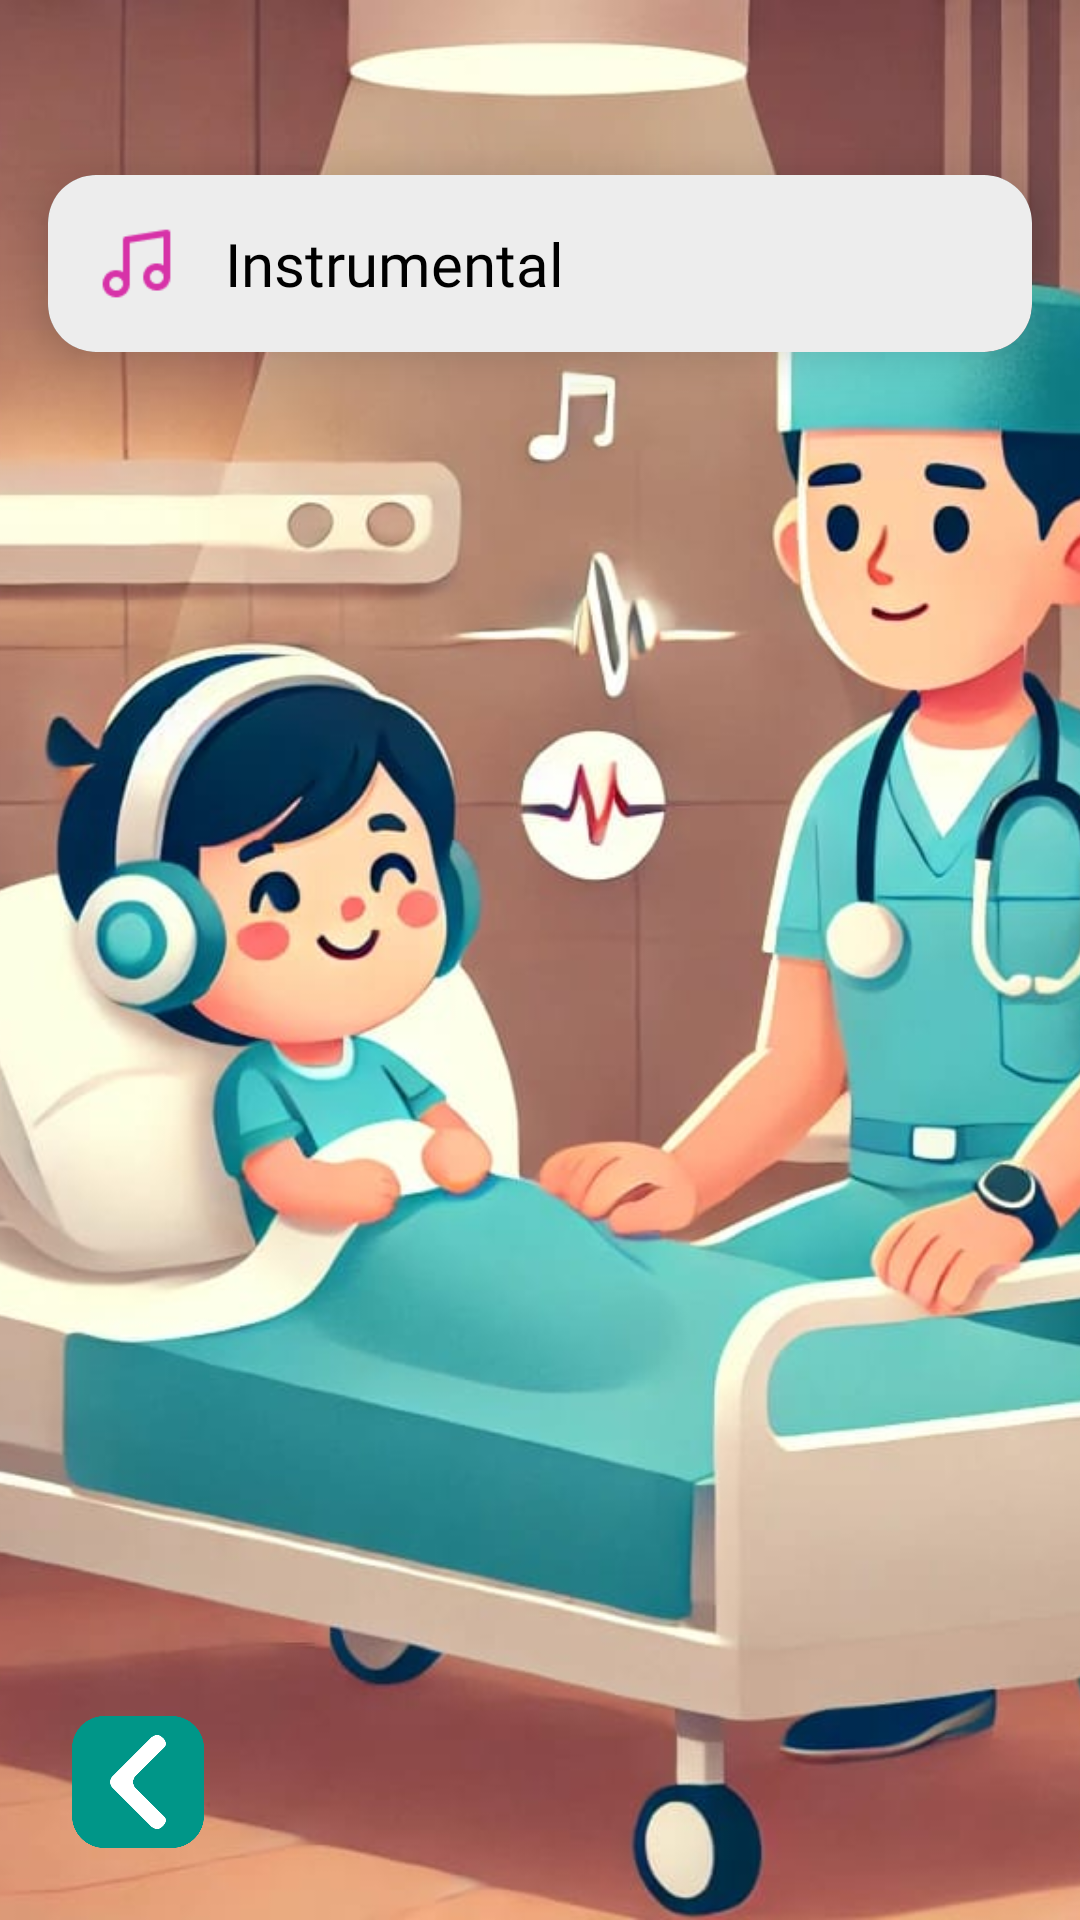

Screen size 1080px x 1920px. Icon name, then its center in pixels as [x,y]:
Back Button: [138,1782]
music: [136,263]
